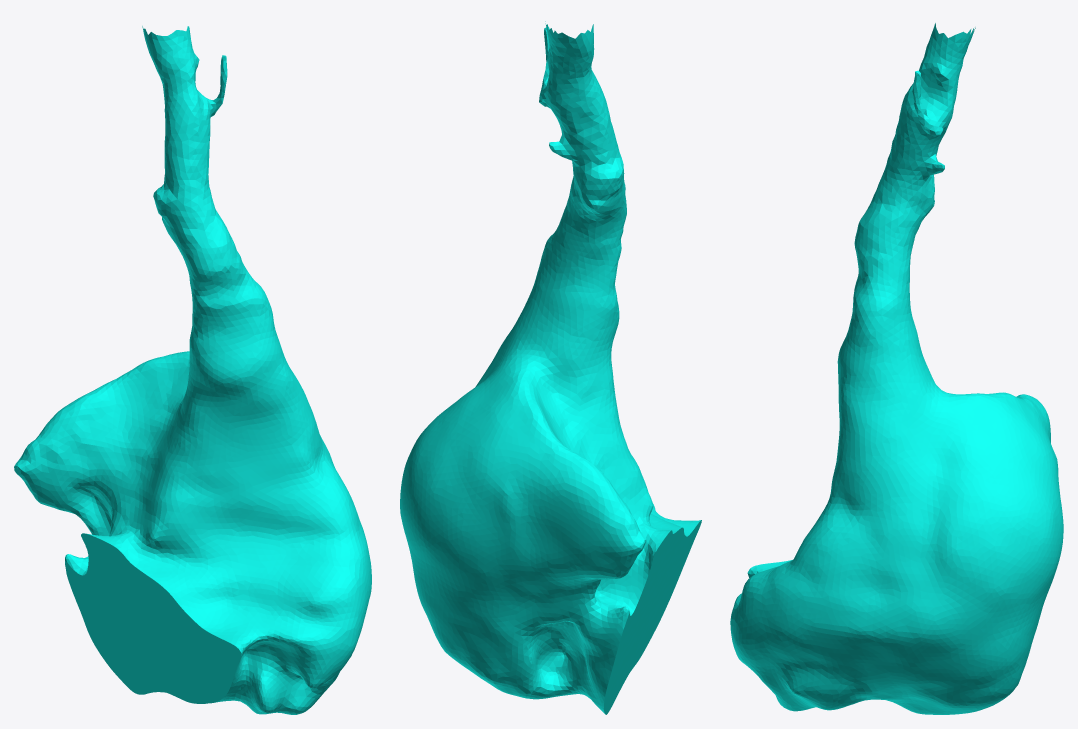
Rendered from RA002cropped.glb.
The picture shows the model from 3 angles, left to right: view 1: azimuth 30°, elevation 25°; view 2: azimuth 150°, elevation 25°; view 3: azimuth 270°, elevation 25°; orthographic projection. The views are drawn at different scales.
Parts seen in each view (by area): view 1: 2018002 Right Atrium; view 2: 2018002 Right Atrium; view 3: 2018002 Right Atrium.
Part boxes in pixels (x1,y1,x2,y2): 2018002 Right Atrium: (14, 26, 371, 714); 2018002 Right Atrium: (400, 21, 701, 714); 2018002 Right Atrium: (730, 23, 1063, 714).
Bounding box in the file's own units: 84.78 × 201 × 89.57.
